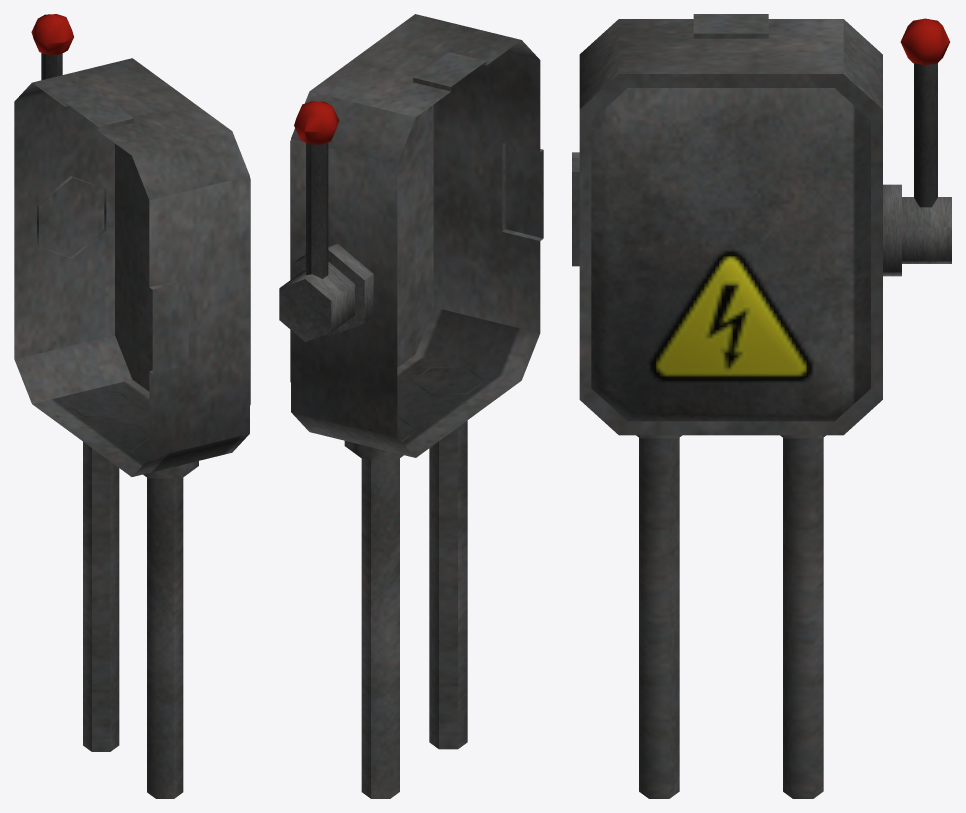
Rendered from PowerBox.fbx.
3 renders of one model, left to right at view 1: azimuth 30°, elevation 25°; view 2: azimuth 150°, elevation 25°; view 3: azimuth 270°, elevation 25°, orthographic. The views are drawn at different scales.
Visible parts, largest first — view 1: Main, Legs, Trigger; view 2: Main, Legs, Trigger; view 3: Main, Legs, Trigger.
Part boxes in pixels (box(x1,y1,x2,y2)): Main: box(14, 58, 250, 476); Legs: box(67, 391, 198, 798); Trigger: box(31, 14, 106, 258); Main: box(290, 14, 543, 457); Legs: box(344, 367, 484, 798); Trigger: box(279, 101, 373, 341); Main: box(572, 14, 882, 435); Legs: box(636, 435, 825, 798); Trigger: box(883, 18, 951, 276).
Size of the model in its own units: 74.52 by 429 by 190.
